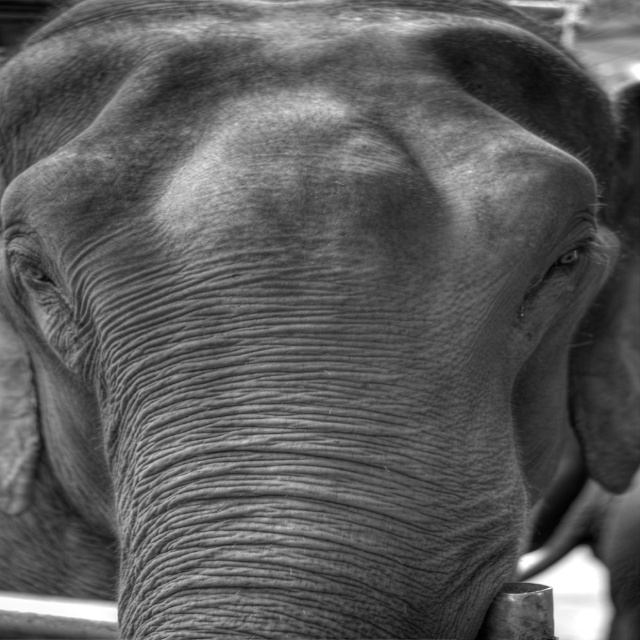Elephant: (1, 0, 632, 640)
